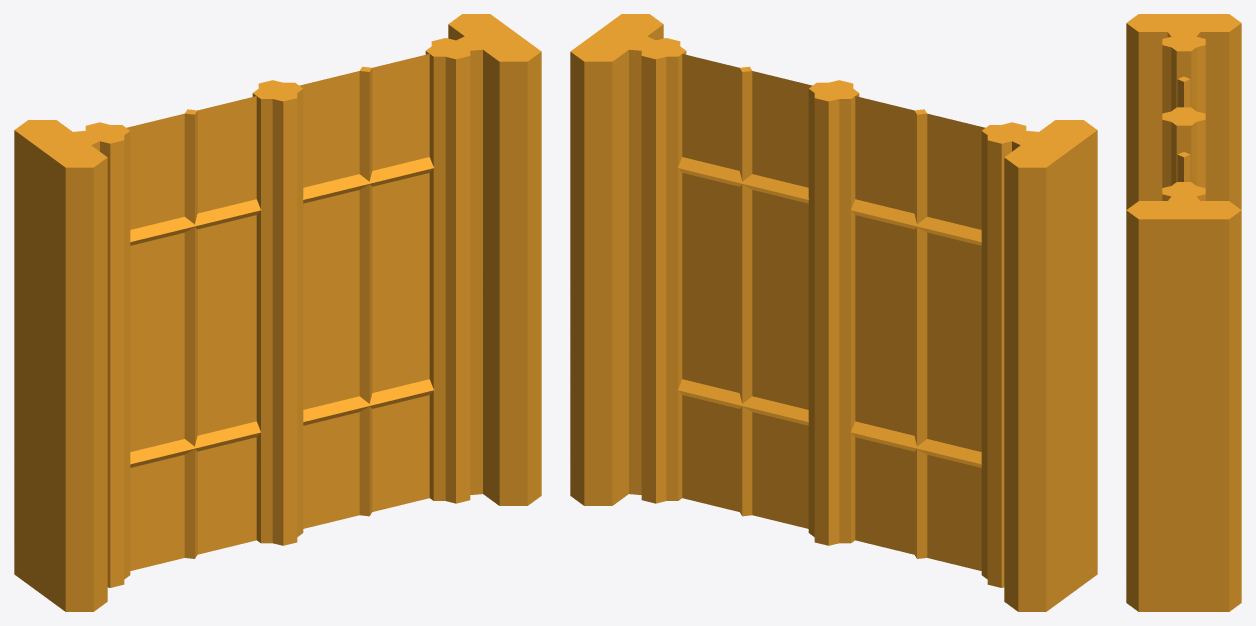
Rendered from SM_Window_Stone_Modular_A_Middle_Fantasy.fbx.
3 views of the same model, side by side, from view 1: azimuth 30°, elevation 25°; view 2: azimuth 150°, elevation 25°; view 3: azimuth 270°, elevation 25° (orthographic). The views are drawn at different scales.
Parts seen in each view (by area): view 1: SM_Window_Stone_Modular_A_Middle_Fantasy; view 2: SM_Window_Stone_Modular_A_Middle_Fantasy; view 3: SM_Window_Stone_Modular_A_Middle_Fantasy.
Part boxes in pixels (bbox=[...]): SM_Window_Stone_Modular_A_Middle_Fantasy: bbox=[14, 14, 541, 611]; SM_Window_Stone_Modular_A_Middle_Fantasy: bbox=[570, 14, 1097, 611]; SM_Window_Stone_Modular_A_Middle_Fantasy: bbox=[1126, 14, 1241, 611].
Bounding box in the file's own units: 3.36 × 3 × 0.7987.
